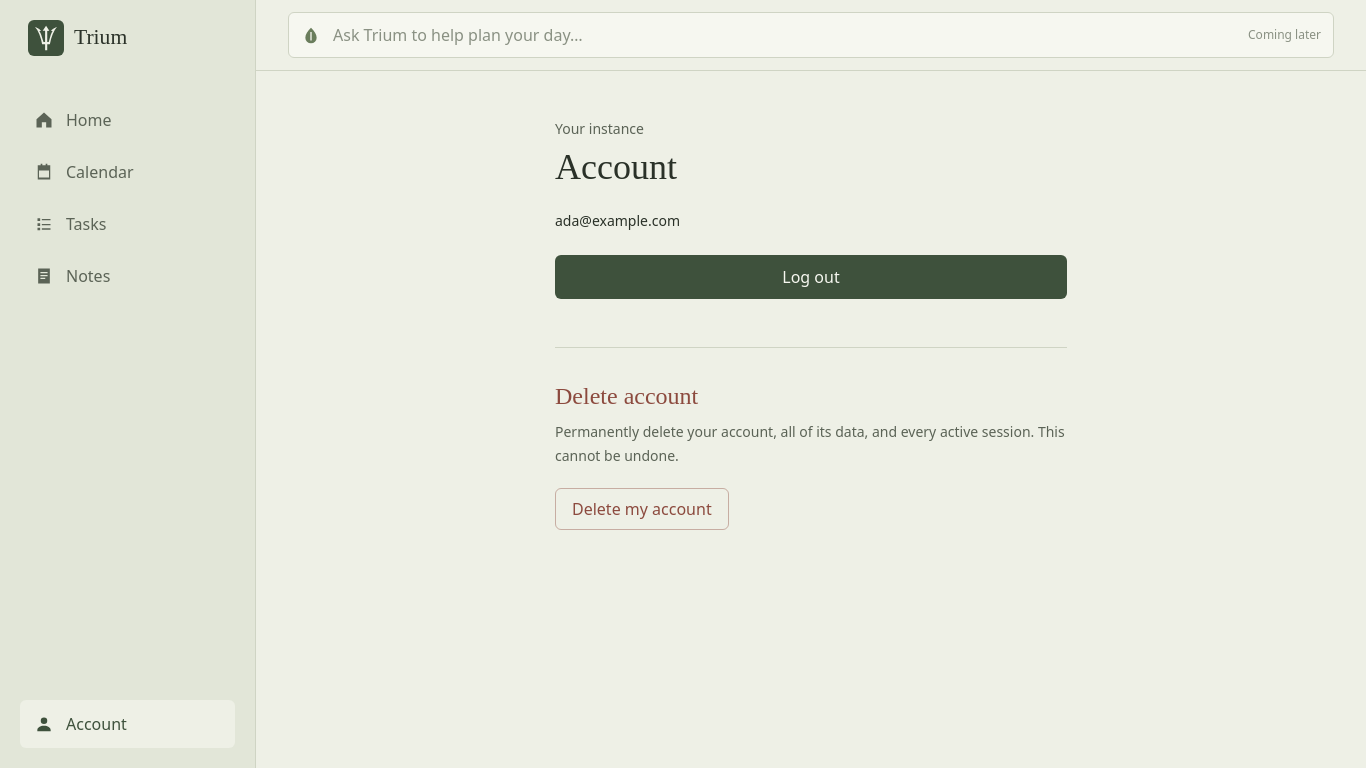
Test case: App routes › keeps the account open and reports a logout failure
The image size is (1366, 768).
Expected: the text "ada@example.com" is shown, [555,211,680,230]
Click the button "Log out": [811, 277] box [555,255,1067,299]
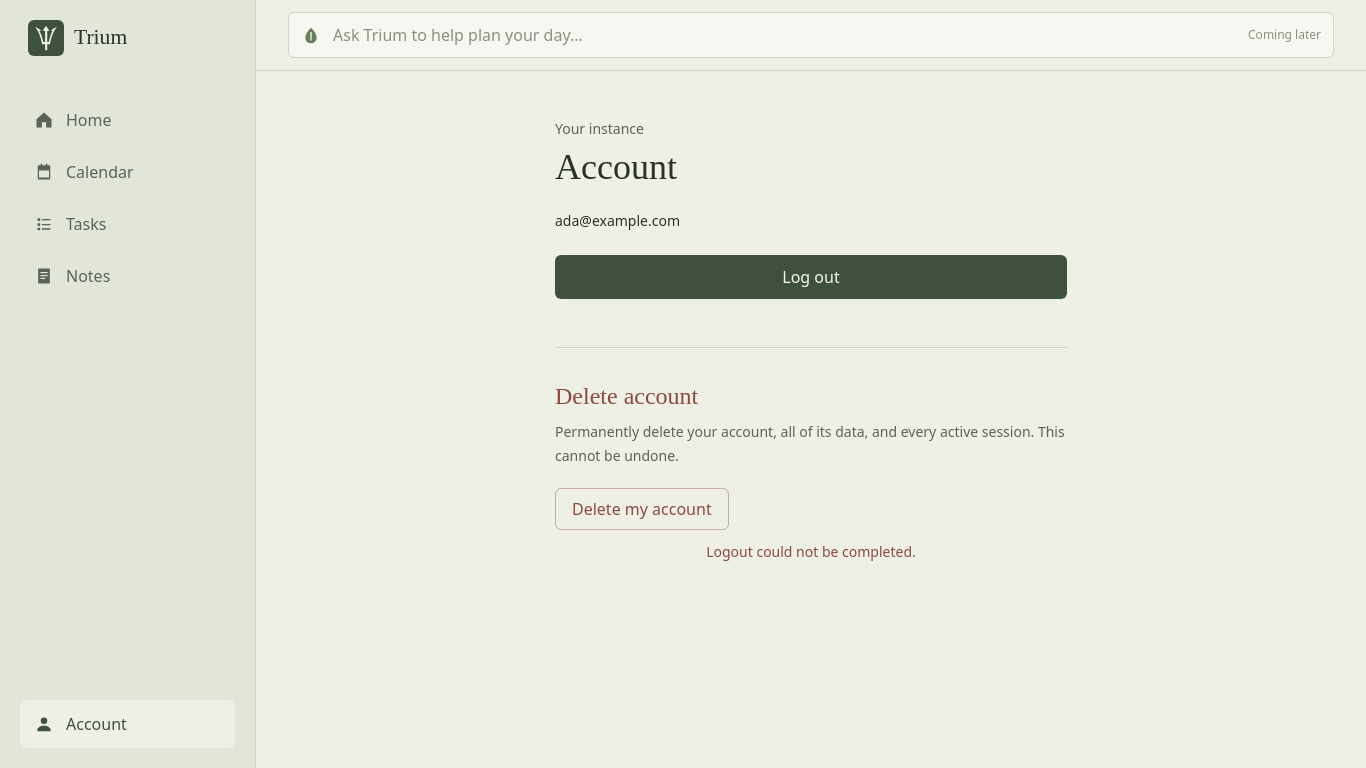
Expected: the heading "Account" is shown, [555,147,677,187]
Expected: the message reads "Logout could not be completed.", [706,542,916,561]
